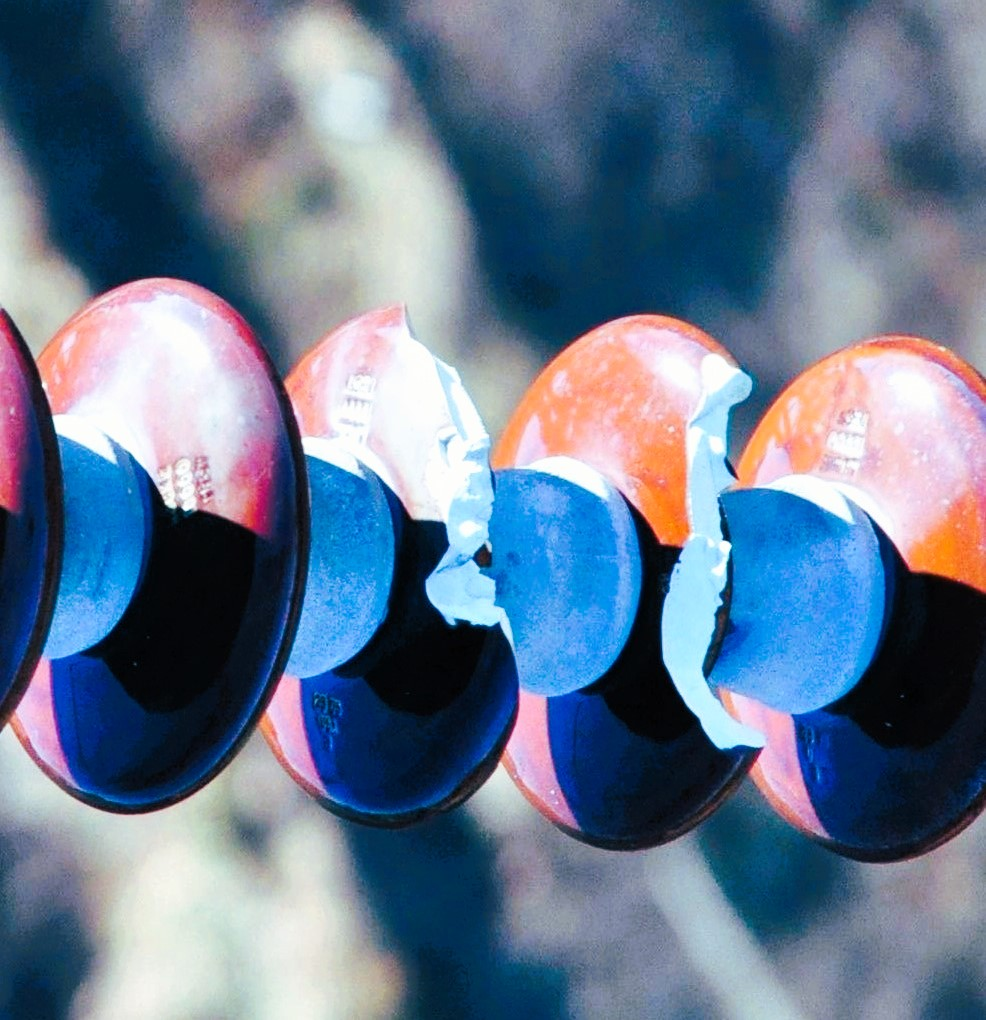insulator breakage: (524, 304, 783, 854), (251, 295, 513, 829)
